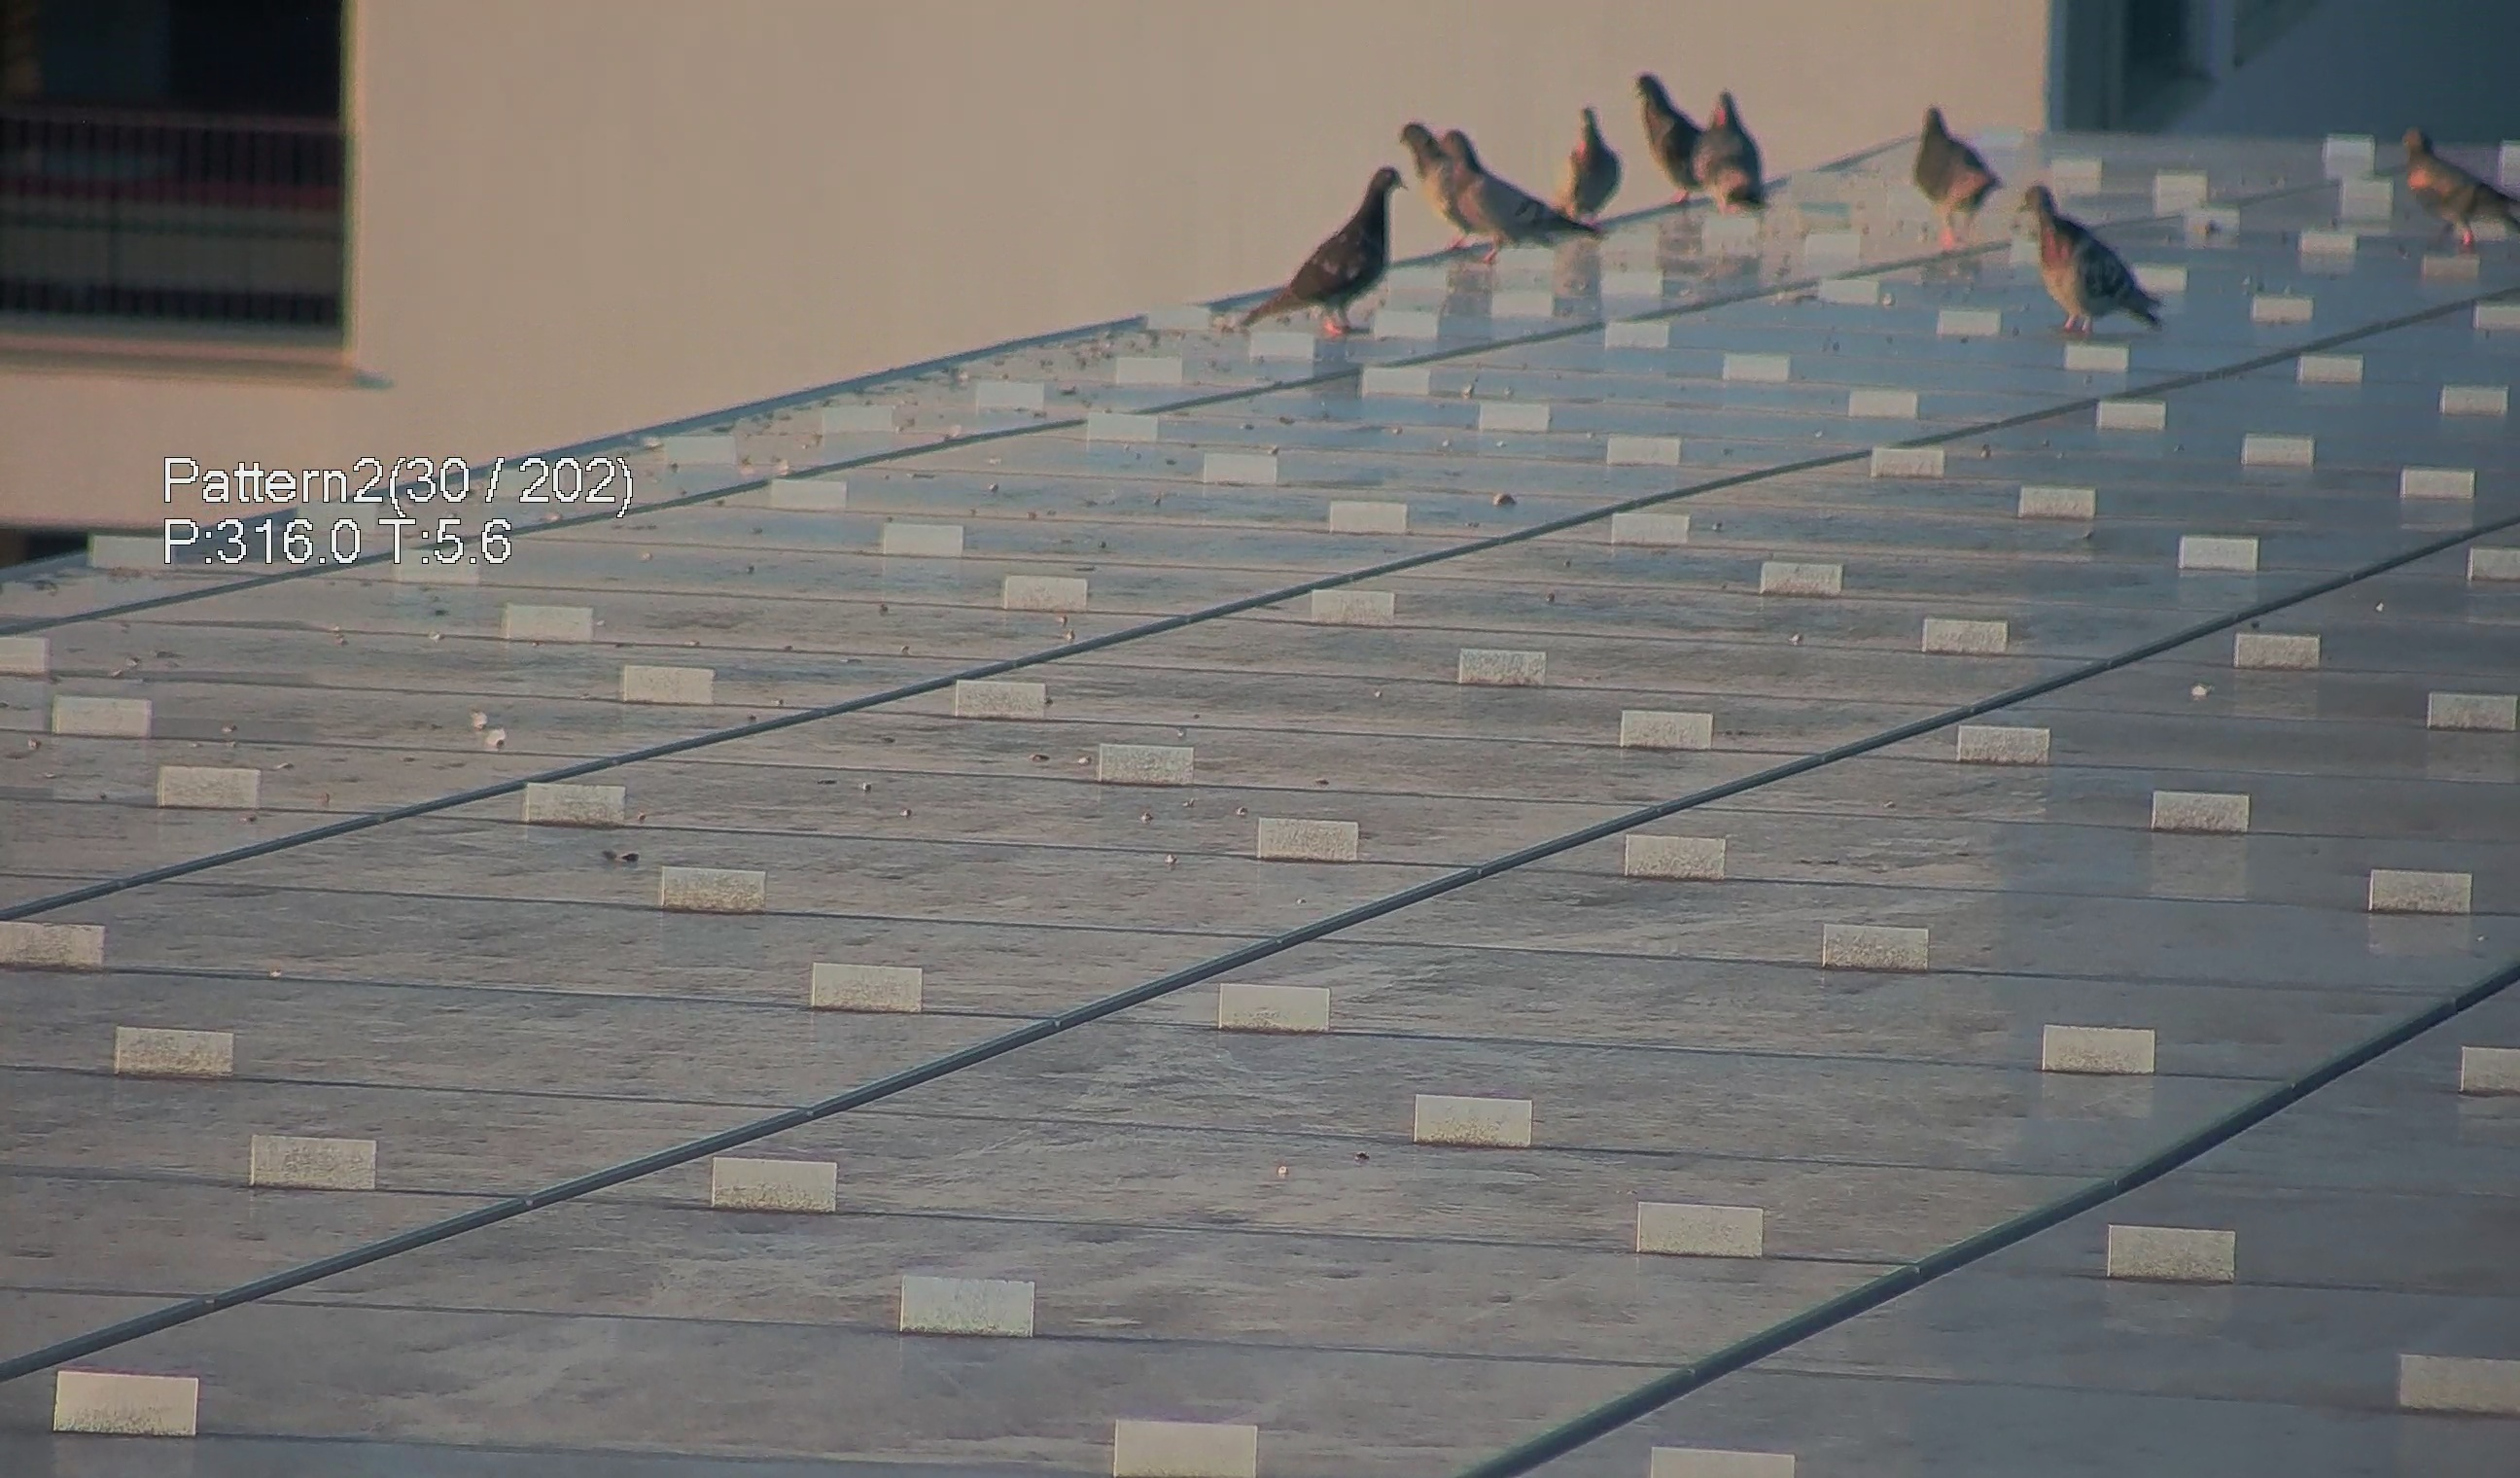Pigeon: (1227, 153, 1409, 334), (1395, 104, 1613, 253), (2015, 176, 2193, 345), (1634, 60, 1780, 216), (2404, 123, 2520, 264), (1910, 97, 2001, 255), (1549, 99, 1632, 220)
